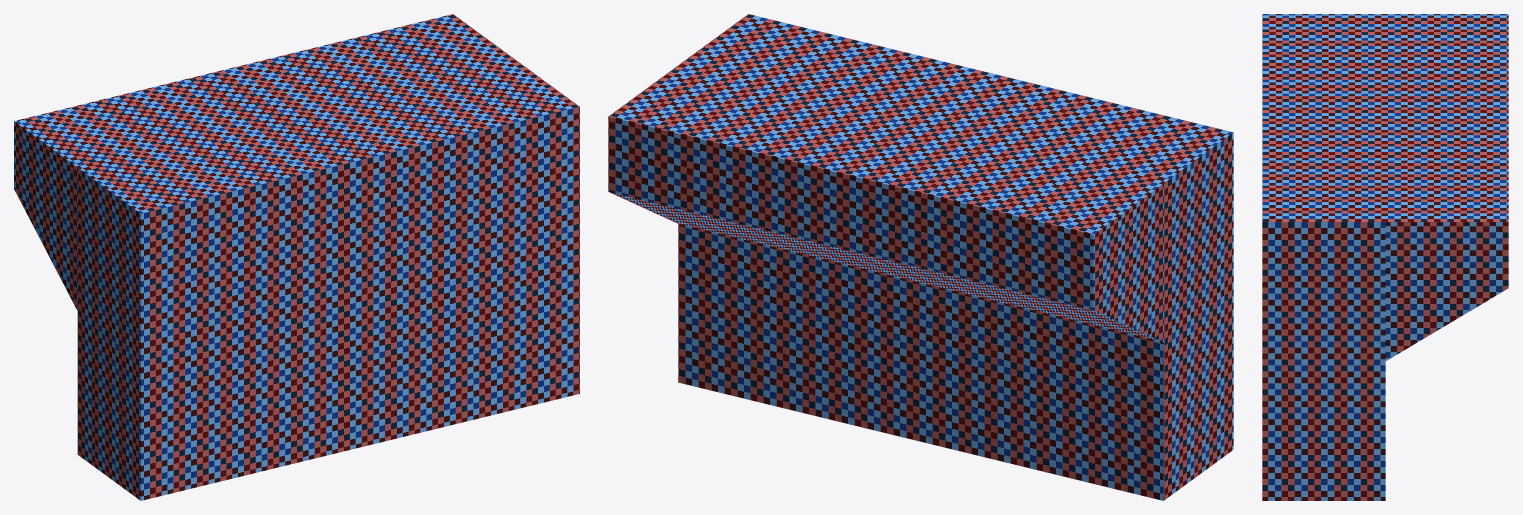
The model's file is half_border_pieceV2_01.fbx.
The picture shows the model from 3 angles, left to right: view 1: azimuth 30°, elevation 25°; view 2: azimuth 150°, elevation 25°; view 3: azimuth 270°, elevation 25°; orthographic projection. The views are drawn at different scales.
Parts seen in each view (by area): view 1: half_border_pieceV2_01; view 2: half_border_pieceV2_01; view 3: half_border_pieceV2_01.
Part boxes in pixels (box(x1,y1,x2,y2)): half_border_pieceV2_01: box(14, 14, 579, 500); half_border_pieceV2_01: box(608, 14, 1233, 500); half_border_pieceV2_01: box(1262, 14, 1508, 500).
Size of the model in its own units: 200 by 125 by 100.
1 material, 1 textured.
